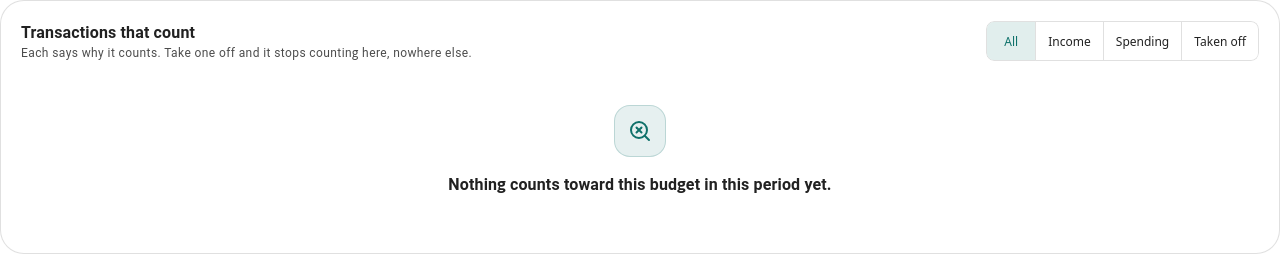
BudgetTransactions › says so when nothing counts under income
What coordinates should you click on to do the following:
click the button "Income"
I would click on:
 (1070, 41)
Its box is x1=1036 y1=21 x2=1104 y2=61.
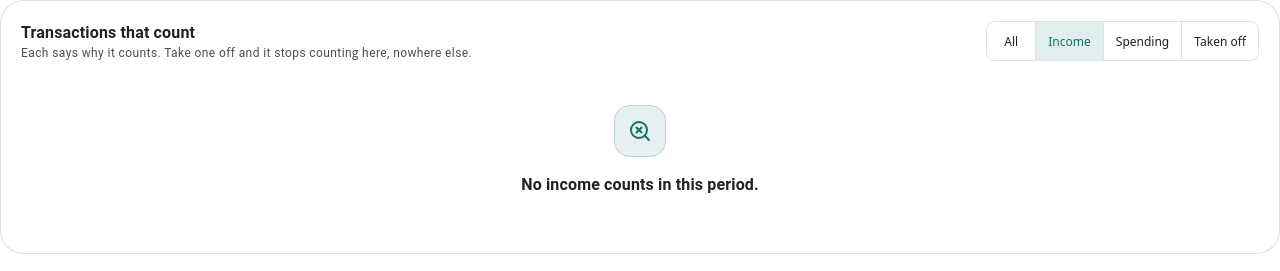
Expected: the element with test id "transactions-empty" reads "No income counts in this period.", x1=521 y1=175 x2=759 y2=194
